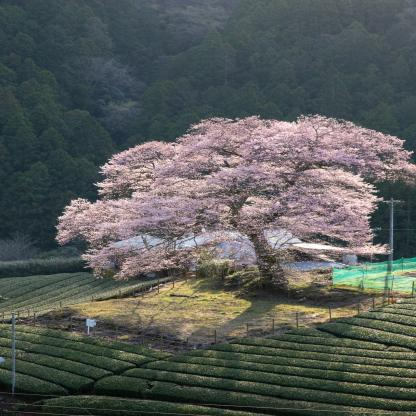EdohiganSakura: (54, 112, 416, 292)
